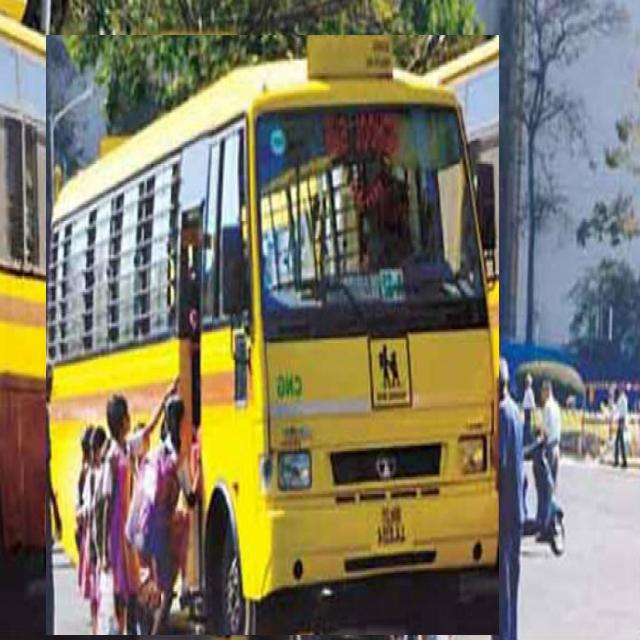bus: (46, 36, 499, 635)
